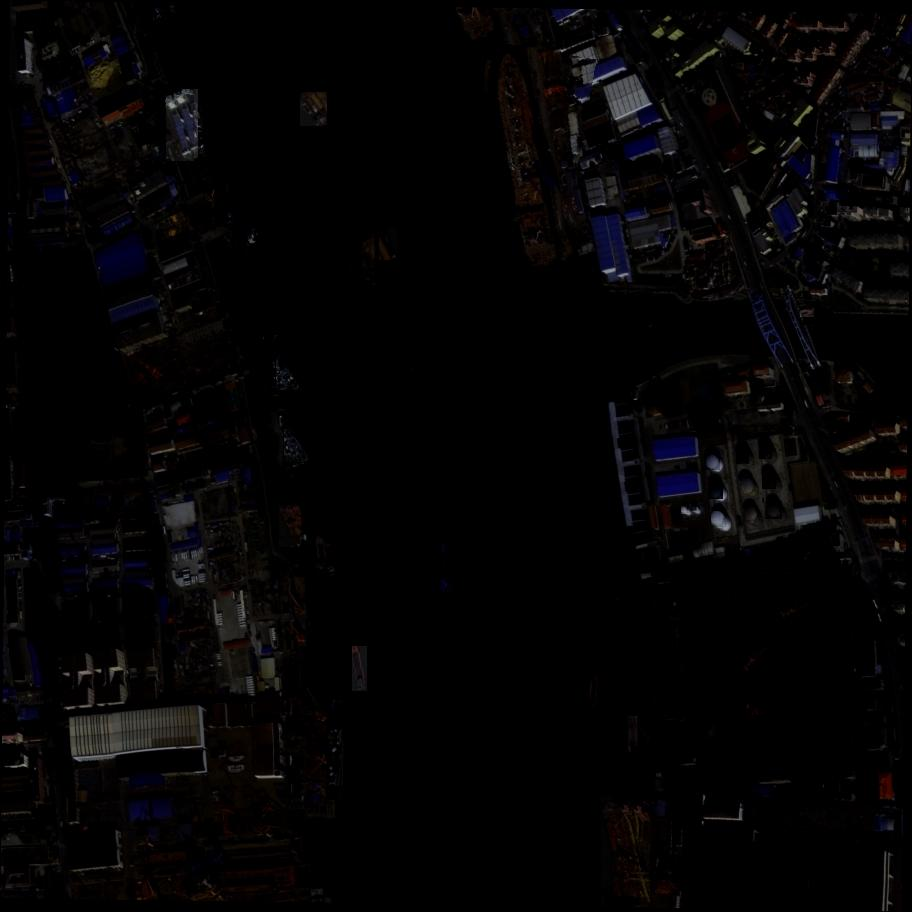ship: (491, 47, 562, 272), (602, 579, 656, 709), (602, 797, 653, 909), (249, 331, 294, 409), (327, 699, 352, 800), (166, 95, 196, 163), (362, 239, 397, 285), (341, 258, 373, 302), (375, 229, 399, 285), (610, 297, 660, 323), (182, 89, 200, 158), (310, 84, 342, 122), (292, 99, 325, 132), (279, 505, 302, 548), (300, 92, 328, 127), (284, 427, 310, 463), (276, 356, 302, 390), (348, 258, 377, 287), (214, 164, 227, 224), (352, 647, 369, 692), (631, 748, 651, 786), (309, 88, 329, 124), (233, 224, 257, 252), (379, 228, 399, 261), (359, 247, 375, 288), (274, 333, 284, 396), (216, 179, 239, 206), (431, 544, 442, 600), (409, 562, 428, 594), (414, 557, 432, 589), (445, 540, 458, 584), (316, 534, 330, 573), (440, 544, 451, 593), (588, 673, 602, 711), (283, 414, 293, 467), (157, 0, 175, 28), (309, 534, 322, 572), (192, 102, 206, 137), (605, 743, 616, 782), (620, 754, 632, 788), (629, 716, 640, 753), (288, 507, 301, 538), (299, 544, 311, 575), (306, 638, 317, 671), (233, 227, 245, 256), (329, 538, 338, 576), (247, 224, 263, 245), (367, 243, 376, 279), (409, 563, 417, 602), (245, 222, 256, 250), (292, 506, 306, 528), (637, 302, 655, 319), (147, 2, 157, 31), (153, 0, 163, 28), (424, 556, 433, 587), (804, 314, 822, 327), (307, 572, 315, 601), (801, 308, 815, 319), (798, 302, 813, 312), (368, 288, 376, 302), (325, 126, 332, 139), (255, 227, 261, 240), (307, 545, 311, 563), (253, 352, 257, 362), (796, 300, 804, 303)
storage-tank: (765, 502, 783, 521), (704, 452, 721, 471), (739, 477, 755, 496), (743, 506, 758, 523), (709, 483, 724, 500), (736, 448, 751, 464), (759, 444, 773, 460), (762, 474, 775, 489), (712, 511, 725, 526), (681, 506, 689, 514), (691, 505, 696, 510)
